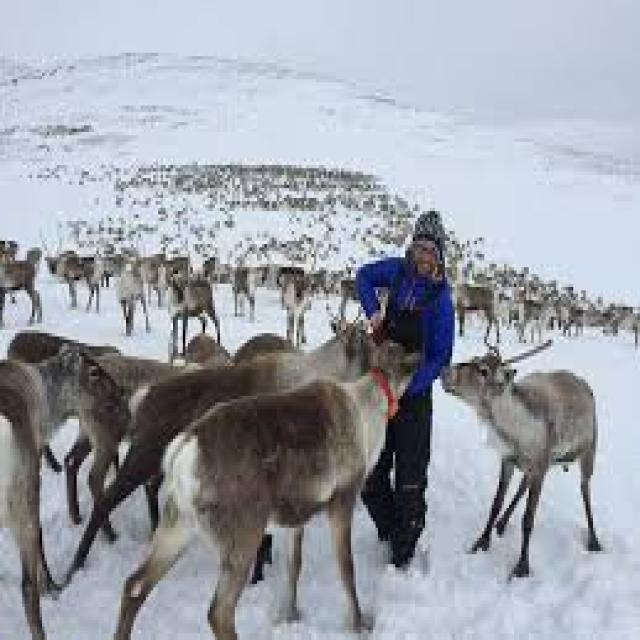Reindeer: (114, 280, 421, 640), (442, 311, 608, 590), (4, 321, 140, 630), (40, 226, 108, 314), (270, 262, 320, 334)
